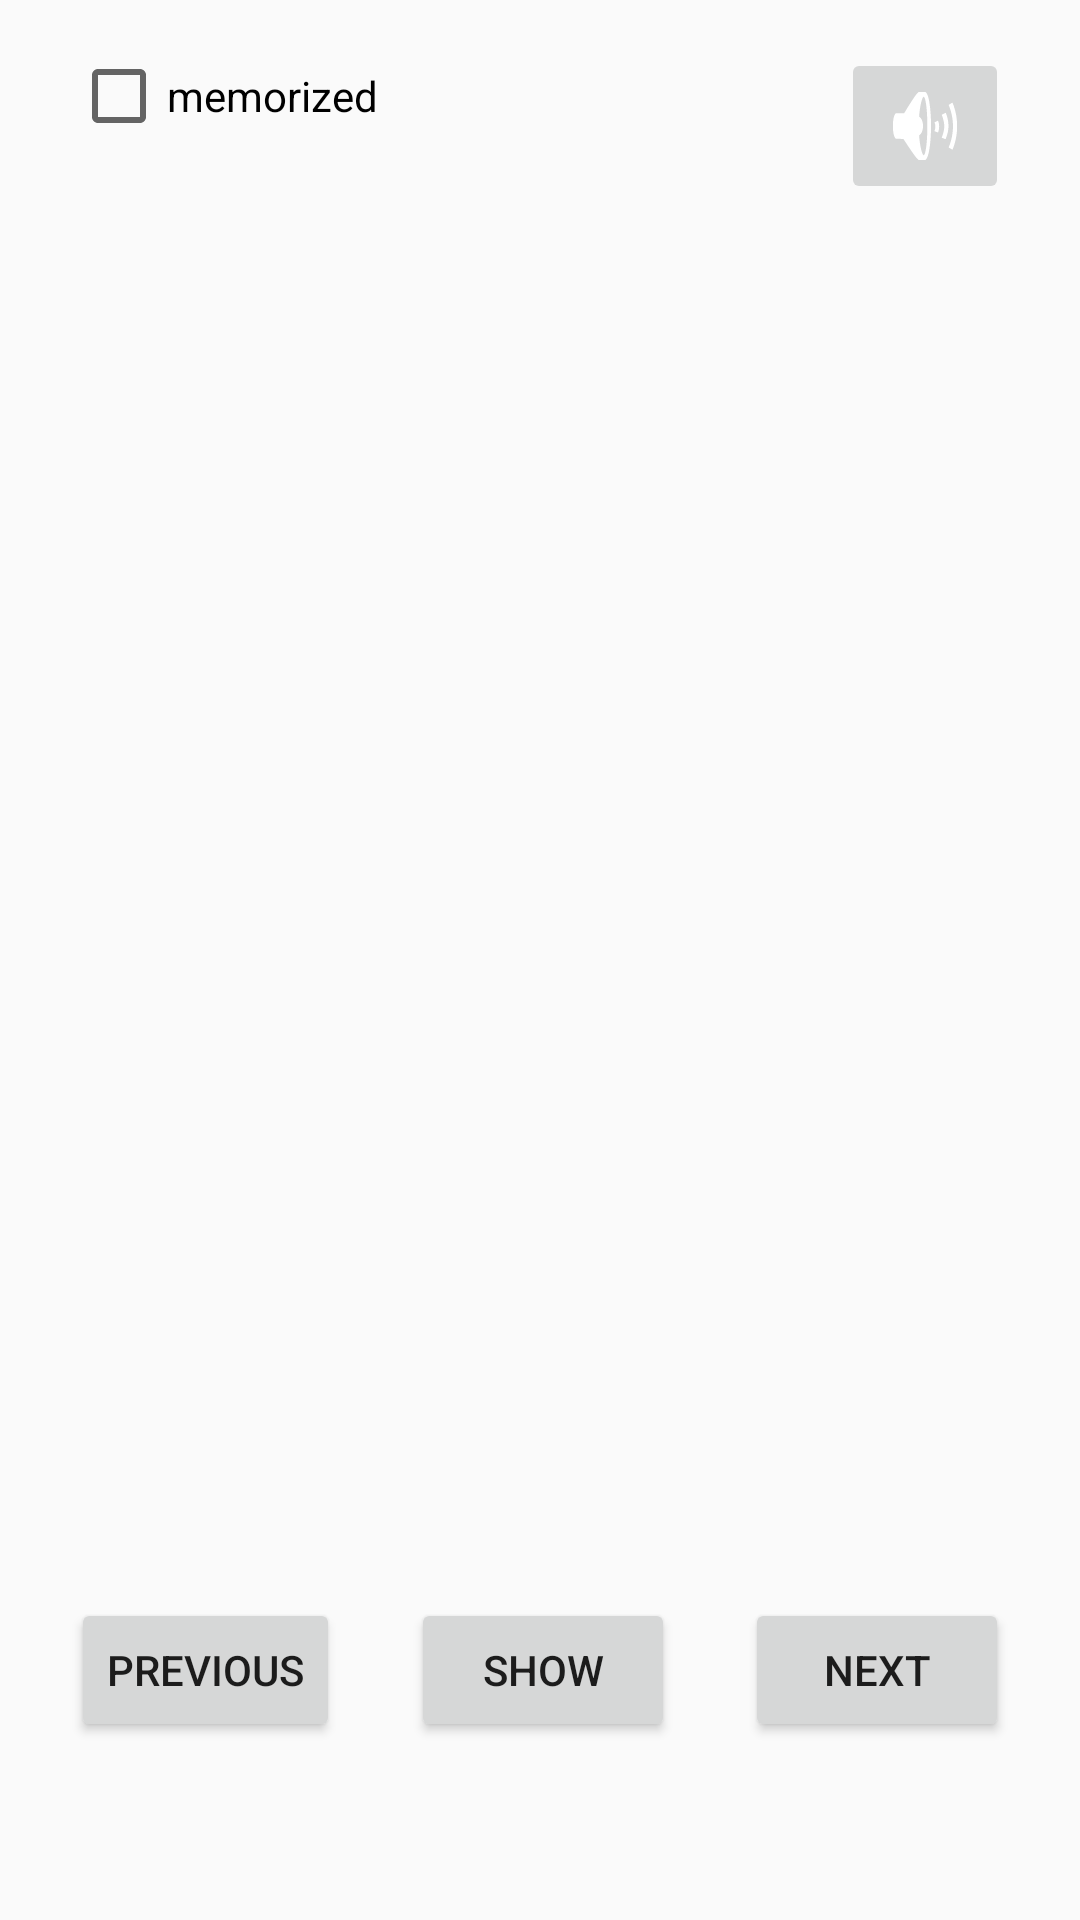

Icons on this 1080w x 1920h Android screen, each with the point to tap as (x,y):
read: (925,126)
